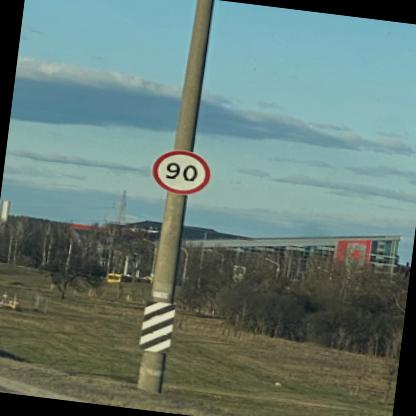speedlimit: (148, 145, 212, 196)
